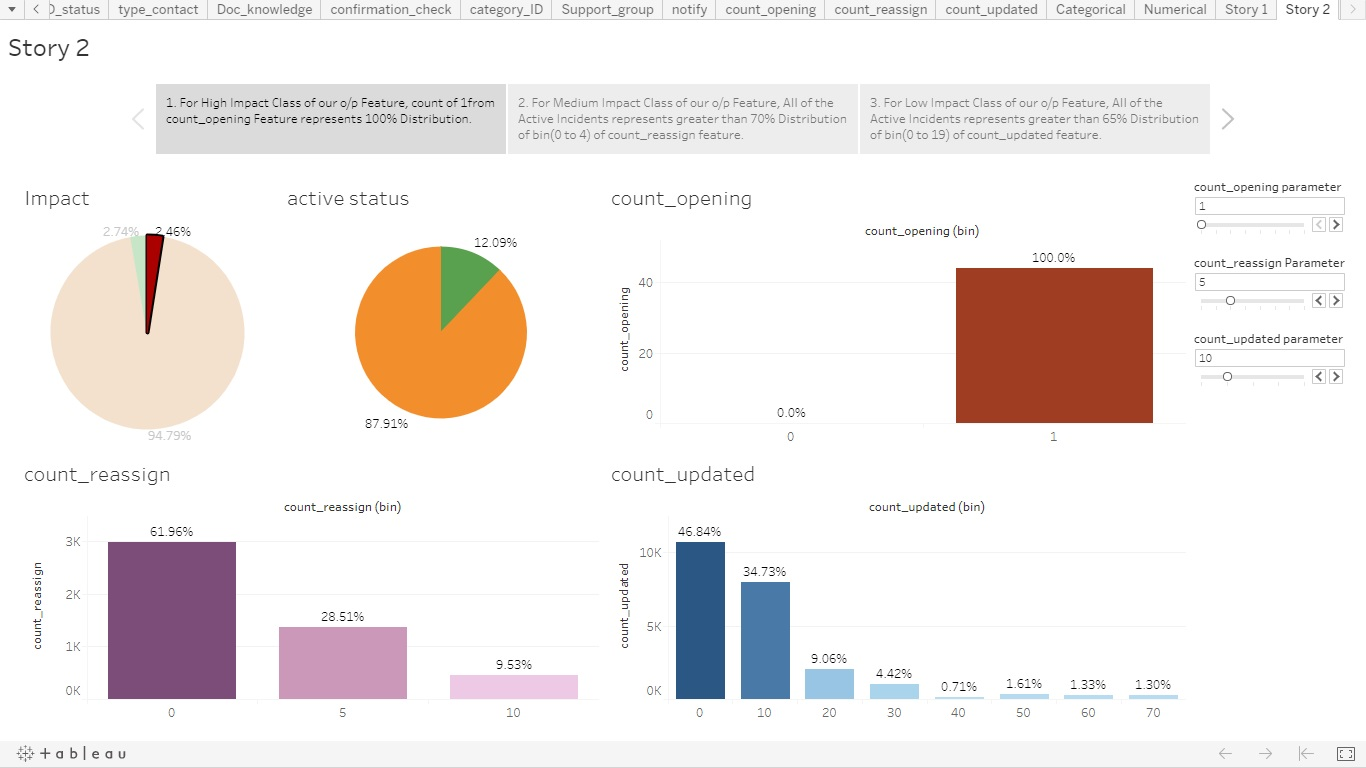

The page's visual inventory and layout, read from the dashboard file:
{"tool":"tableau","page":{"name":"Numerical","canvas":[1000,1000],"units":"permille","ordinal":1},"visuals":[{"type":"worksheet","box":[0,0,1000,1000]},{"type":"worksheet","param":"horz","box":[6.9,13.5,986.1,973]},{"type":"worksheet","box":[6.9,13.5,847.6,973]},{"type":"worksheet","title":"Impact","mark":"Pie","box":[6.9,13.5,189.6,486.5]},{"type":"worksheet","title":"active status","mark":"Pie","box":[196.5,13.5,234.2,486.5]},{"type":"worksheet","title":"count_opening","mark":"Bar","rows":["count_opening"],"cols":["count_opening (bin)"],"box":[430.7,13.5,423.8,486.5]},{"type":"worksheet","param":"vert","box":[854.5,13.5,138.5,973]},{"type":"worksheet","param":"[Parameters].[count_updated parameter (copy)]","box":[854.5,13.5,138.5,126.7]},{"type":"worksheet","param":"[Parameters].[count_reassign Parameter]","box":[854.5,140.2,138.5,126.7]},{"type":"worksheet","param":"[Parameters].[Parameter 1]","box":[854.5,266.9,138.5,126.7]},{"type":"worksheet","title":"count_reassign","mark":"Bar","rows":["count_reassign"],"cols":["count_reassign (bin)"],"box":[6.9,500,423.8,486.5]},{"type":"worksheet","title":"count_updated","mark":"Bar","rows":["count_updated"],"cols":["count_updated (bin)"],"box":[430.7,500,423.8,486.5]}]}

Visuals, with their boxes on the dashboard's canvas, which has no fixed pixel size, in thousandths of its width and height (x1, y1, x2, y2). These are canvas units, not pixel positions in the 1366x768 screenshot, which may show the page scaled, cropped or inside an application window:
worksheet: (0, 0, 1000, 1000)
worksheet: (7, 14, 993, 986)
worksheet: (7, 14, 854, 986)
"Impact" worksheet (Pie marks): (7, 14, 196, 500)
"active status" worksheet (Pie marks): (196, 14, 431, 500)
"count_opening" worksheet (Bar marks): (431, 14, 854, 500)
worksheet: (854, 14, 993, 986)
worksheet: (854, 14, 993, 140)
worksheet: (854, 140, 993, 267)
worksheet: (854, 267, 993, 394)
"count_reassign" worksheet (Bar marks): (7, 500, 431, 986)
"count_updated" worksheet (Bar marks): (431, 500, 854, 986)
